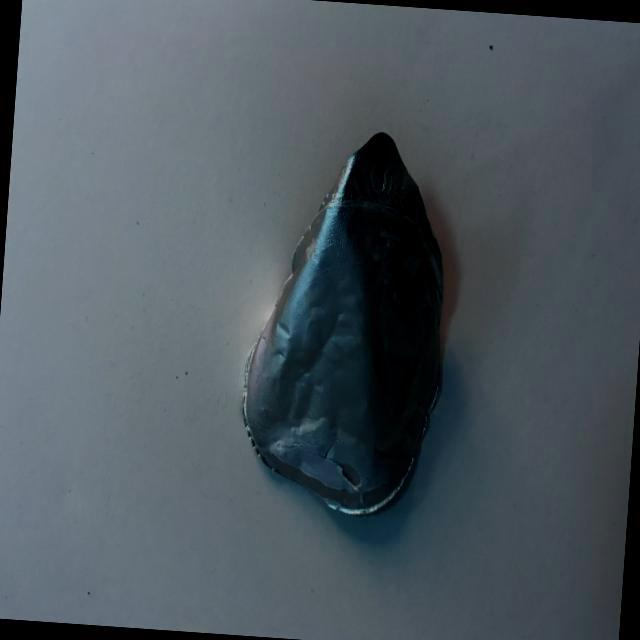plastic: (208, 92, 506, 546)
